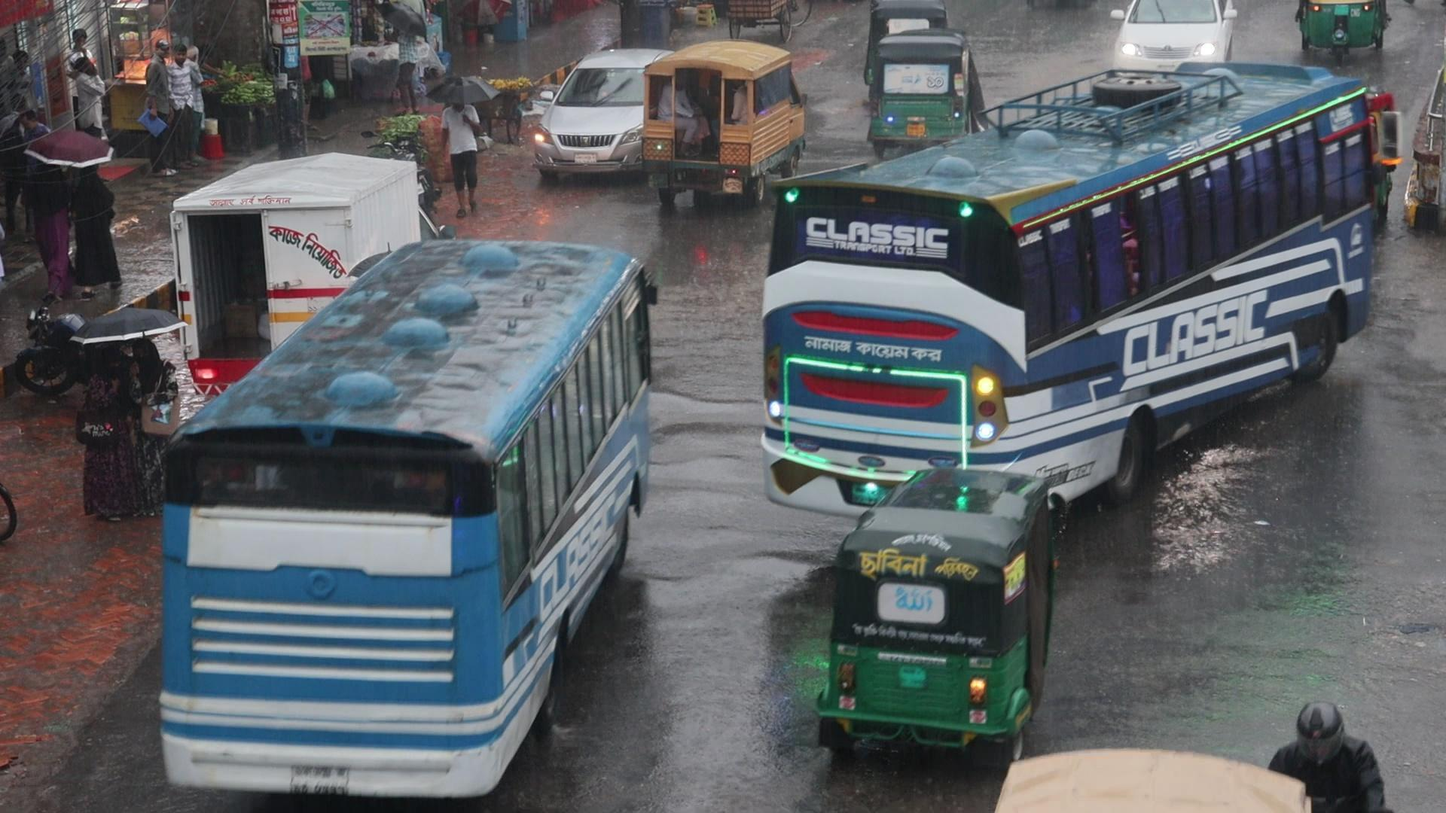Bus: (156, 238, 659, 810), (756, 58, 1390, 478)
Car: (533, 47, 642, 180)
Truck: (643, 40, 806, 183)
